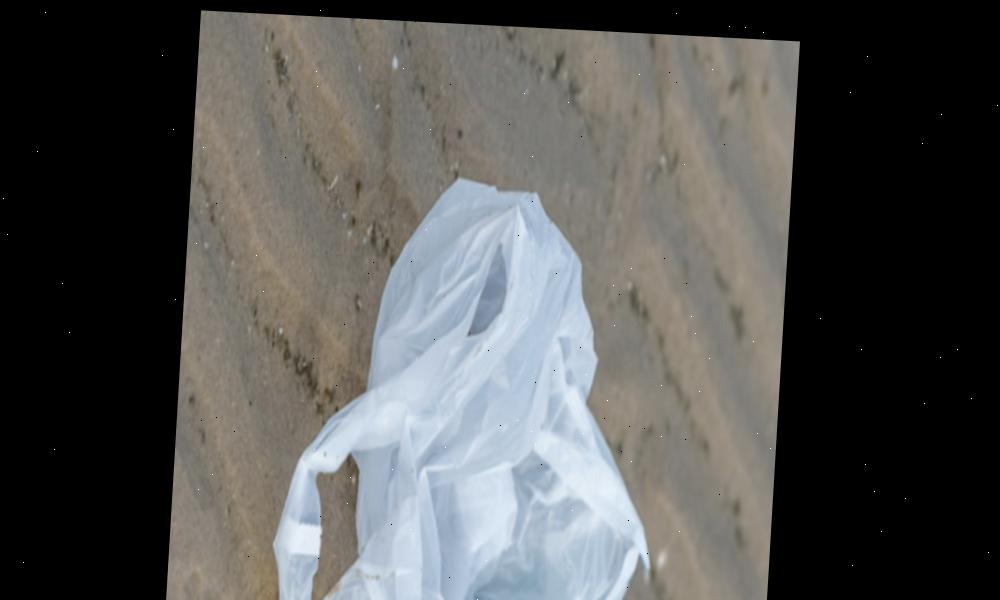plastic bag: (257, 156, 680, 600)
